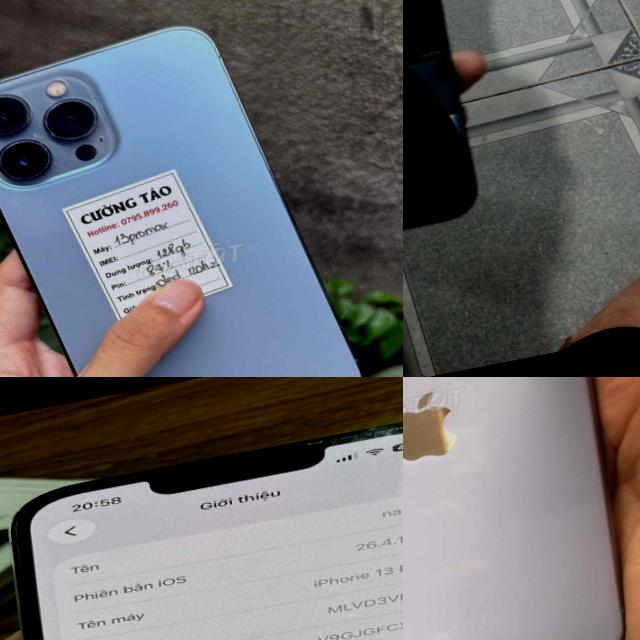gen_11: (403, 377, 640, 640)
gen_12_13: (0, 0, 381, 377), (0, 395, 403, 640)
gen_14: (403, 0, 505, 268)
